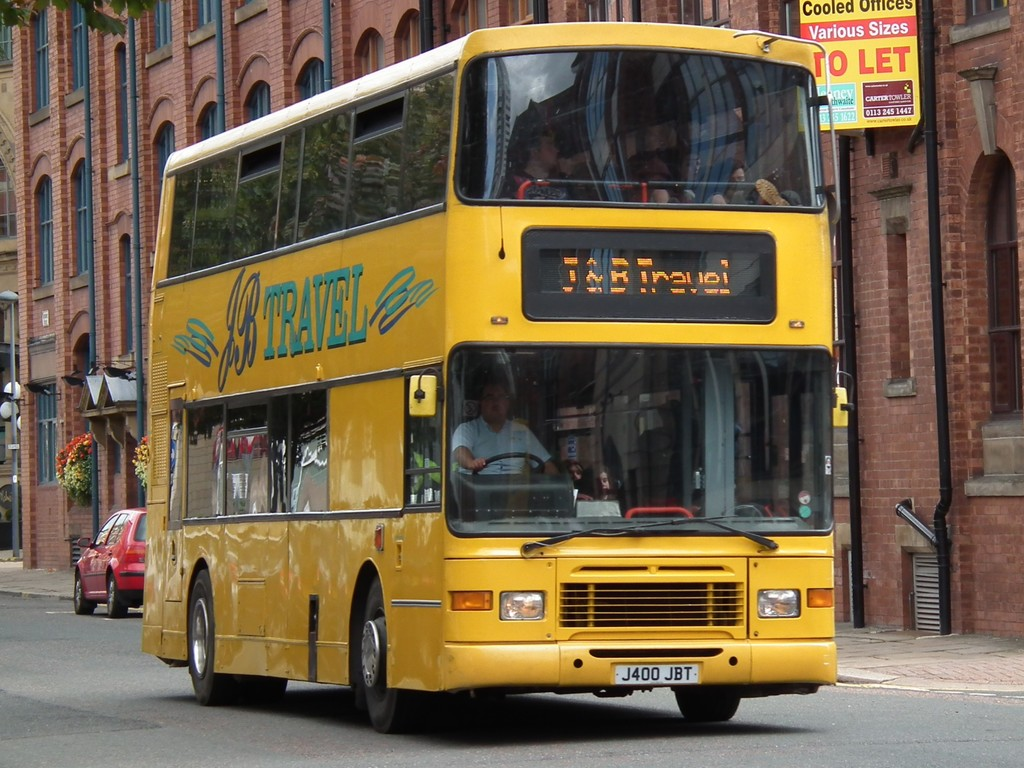Person: (452, 384, 595, 502), (504, 123, 568, 199), (712, 159, 799, 206), (581, 467, 611, 501), (675, 150, 702, 180)
